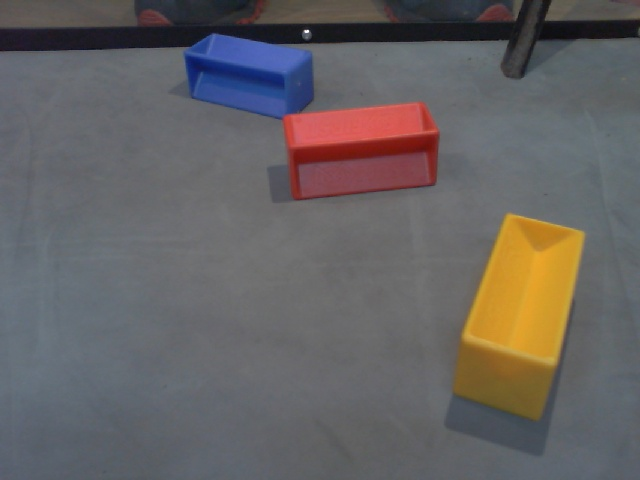BlueSample: (180, 31, 314, 127)
RedSample: (281, 99, 438, 205)
YellowSample: (452, 210, 587, 423)
